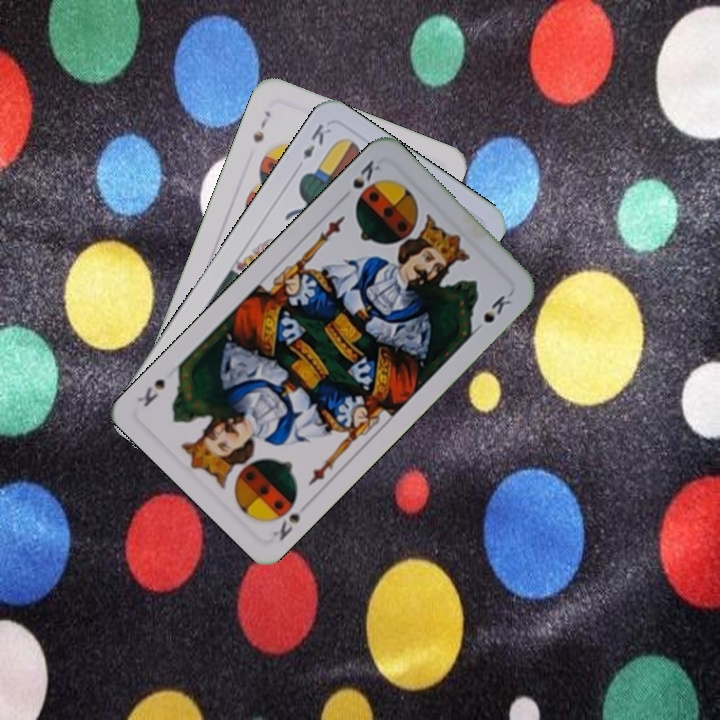EK: (299, 119, 334, 162)
S7: (248, 106, 274, 145)
SK: (269, 492, 312, 544), (348, 156, 383, 191)
